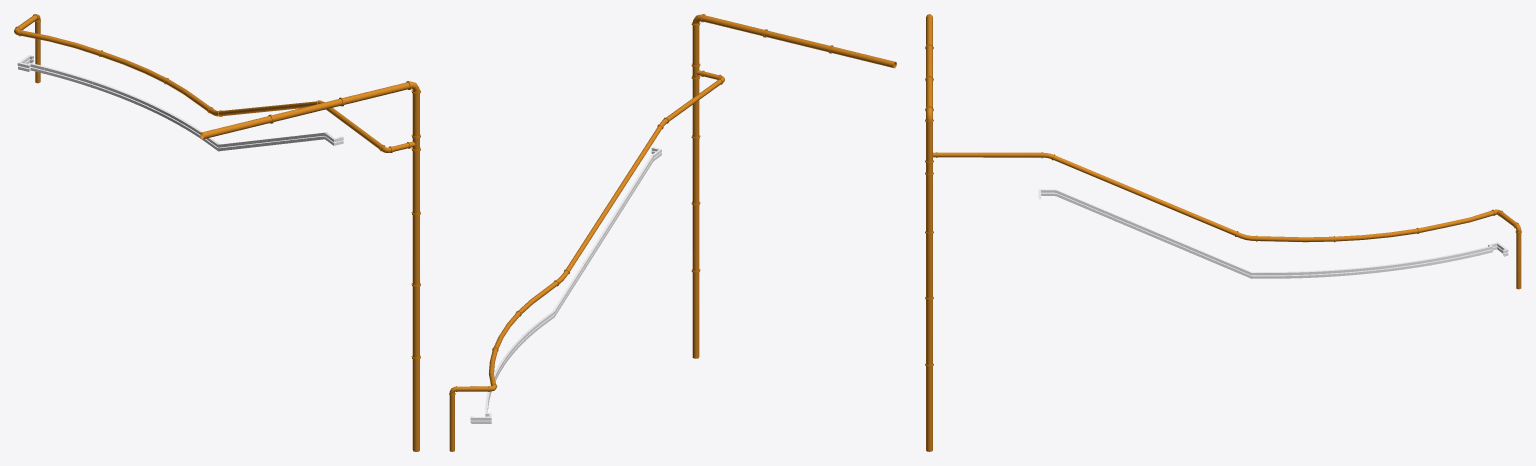
The model's file is SM_H_Building_Tide_Waterway_09e_ATLAS.fbx.
The picture shows the model from 3 angles, left to right: view 1: azimuth 30°, elevation 25°; view 2: azimuth 150°, elevation 25°; view 3: azimuth 270°, elevation 25°; orthographic projection. The views are drawn at different scales.
Parts seen in each view (by area): view 1: SM_H_Building_Tide_Waterway_09e_ATLAS; view 2: SM_H_Building_Tide_Waterway_09e_ATLAS; view 3: SM_H_Building_Tide_Waterway_09e_ATLAS.
Part boxes in pixels (bbox=[...]): SM_H_Building_Tide_Waterway_09e_ATLAS: bbox=[14, 14, 420, 451]; SM_H_Building_Tide_Waterway_09e_ATLAS: bbox=[449, 14, 896, 451]; SM_H_Building_Tide_Waterway_09e_ATLAS: bbox=[925, 14, 1521, 451].
Size of the model in its own units: 1310 by 3370 by 2127.
